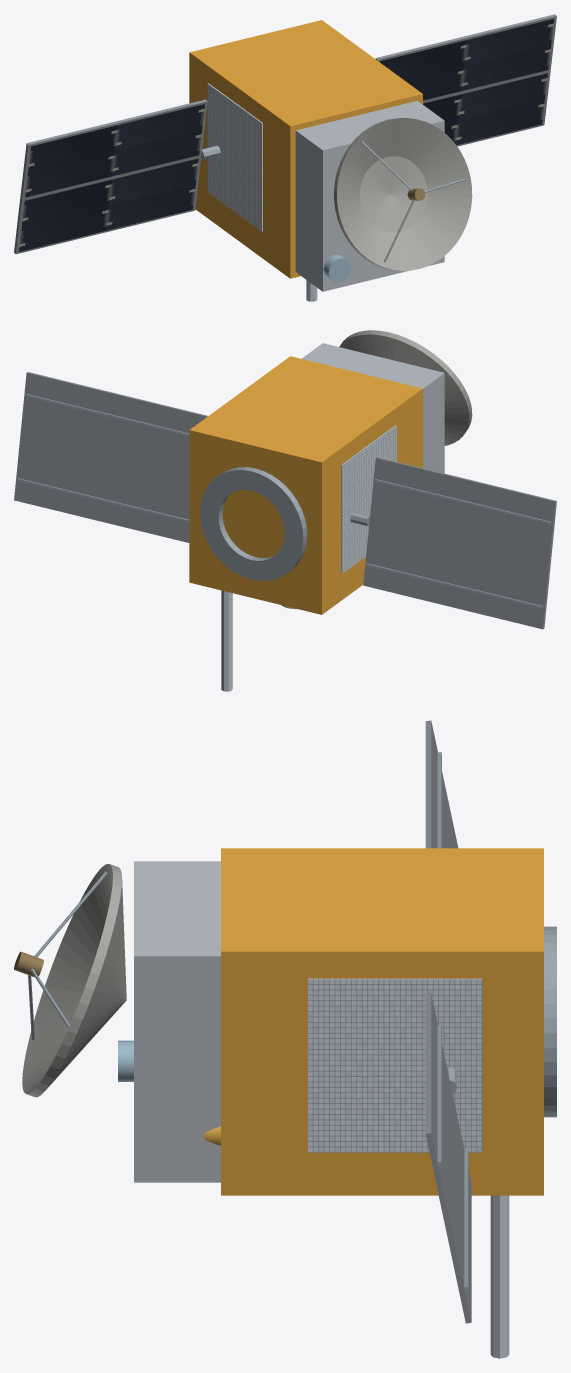
The model's file is saral.glb.
The picture shows the model from 3 angles, top to bottom: view 1: azimuth 30°, elevation 25°; view 2: azimuth 150°, elevation 25°; view 3: azimuth 270°, elevation 25°; orthographic projection. The views are drawn at different scales.
Visible parts, largest first — view 1: Solar cell strings (×4), Spacecraft body, AltiKa radar altimeter, Integrated payload module, Thermal radiator tiles, Solar panel substrate (×2), Laser retroreflector array; view 2: Solar panel substrate (×2), Spacecraft body, Launch interface, Integrated payload module, AltiKa radar altimeter, Thermal radiator tiles, Array rear rib (×4), Argos UHF antenna; view 3: Spacecraft body, Integrated payload module, Thermal radiator tiles, AltiKa radar altimeter, Solar panel substrate (×2), Argos UHF antenna, Launch interface.
Boxes of the visible parts, x1,y1,x2,y2 form: Solar cell strings (×4): [19, 19, 554, 251]; Spacecraft body: [189, 20, 422, 278]; AltiKa radar altimeter: [334, 118, 472, 270]; Integrated payload module: [295, 101, 444, 291]; Thermal radiator tiles: [207, 83, 262, 231]; Solar panel substrate (×2): [14, 14, 556, 254]; Laser retroreflector array: [323, 255, 350, 282]; Solar panel substrate (×2): [14, 372, 556, 629]; Spacecraft body: [189, 356, 422, 614]; Launch interface: [200, 467, 307, 580]; Integrated payload module: [301, 343, 444, 473]; AltiKa radar altimeter: [339, 330, 472, 445]; Thermal radiator tiles: [341, 425, 396, 573]; Array rear rib (×4): [17, 394, 550, 608]; Argos UHF antenna: [221, 590, 232, 691]; Spacecraft body: [221, 848, 543, 1195]; Integrated payload module: [134, 861, 220, 1182]; Thermal radiator tiles: [308, 978, 482, 1152]; AltiKa radar altimeter: [22, 864, 126, 1097]; Solar panel substrate (×2): [425, 720, 471, 1323]; Argos UHF antenna: [490, 1195, 509, 1358]; Launch interface: [544, 926, 556, 1117].
Bounding box in the file's own units: 3.99 × 2.01 × 2.22.
Materials: 12 (2 with a texture image).
